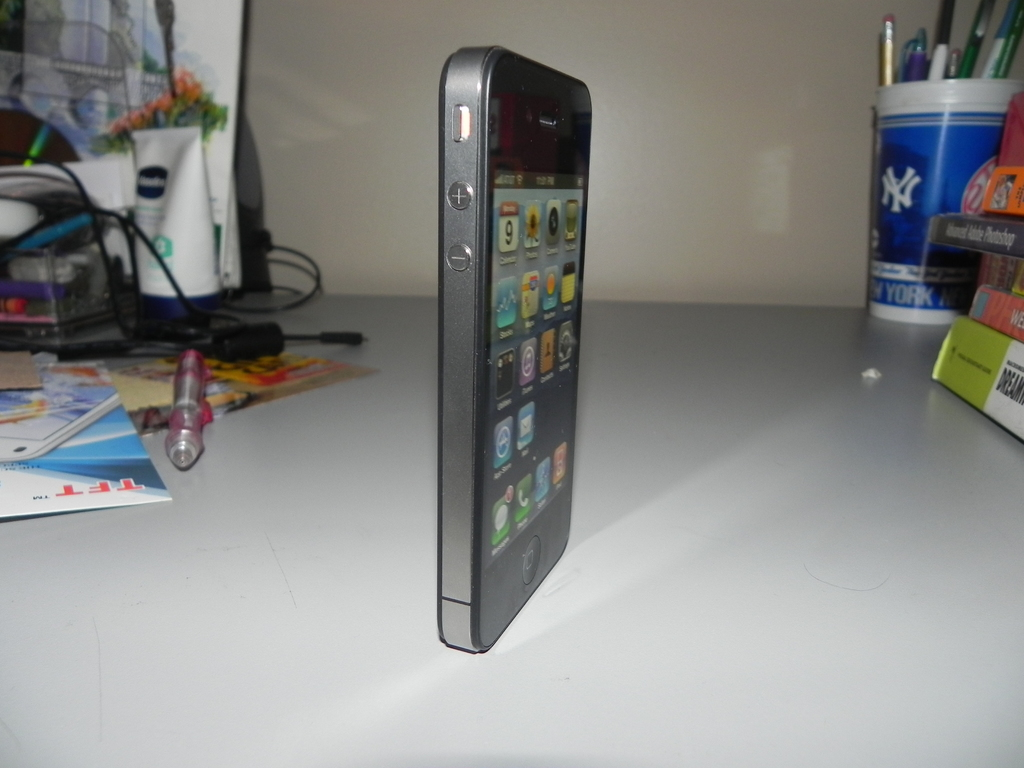Mobile-phone: (435, 44, 596, 655)
